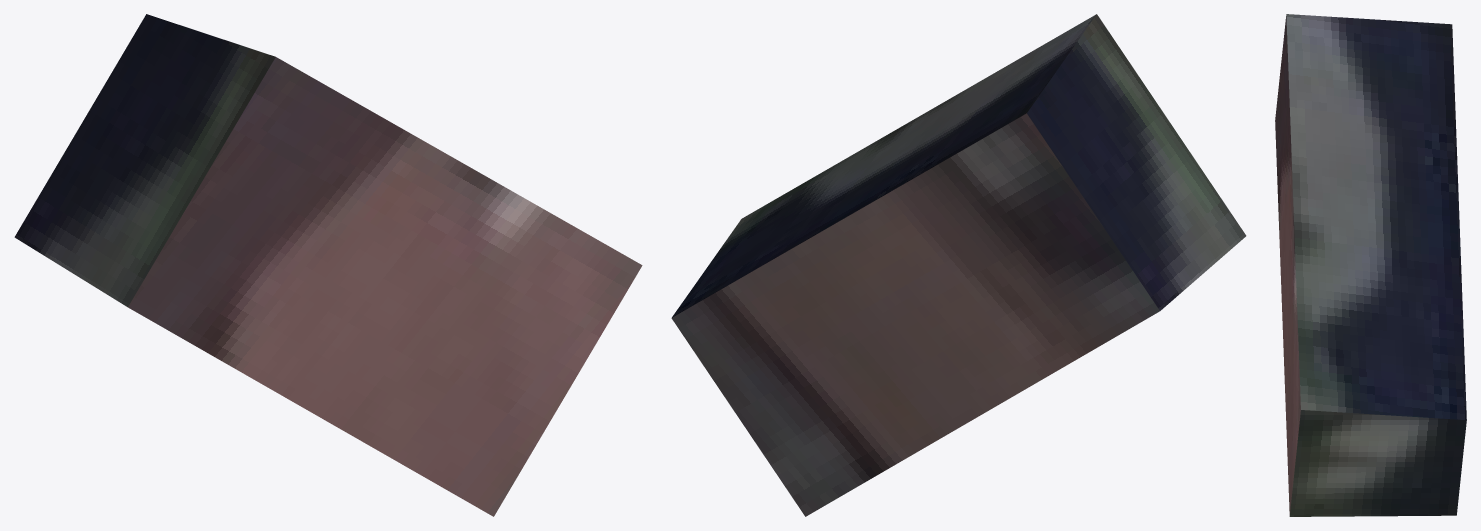
3 views of the same model, side by side, from view 1: azimuth 30°, elevation 25°; view 2: azimuth 150°, elevation 25°; view 3: azimuth 270°, elevation 25° (orthographic). The views are drawn at different scales.
Visible parts, largest first — view 1: BAG_0599100010013248; view 2: BAG_0599100010013248; view 3: BAG_0599100010013248.
Part boxes in pixels (box(x1,y1,x2,y2)): BAG_0599100010013248: box(14, 14, 642, 516); BAG_0599100010013248: box(671, 14, 1246, 516); BAG_0599100010013248: box(1275, 14, 1466, 516).
Bounding box in the file's own units: 5.72 × 5.24 × 2.18.
Materials: 2 (1 with a texture image).
